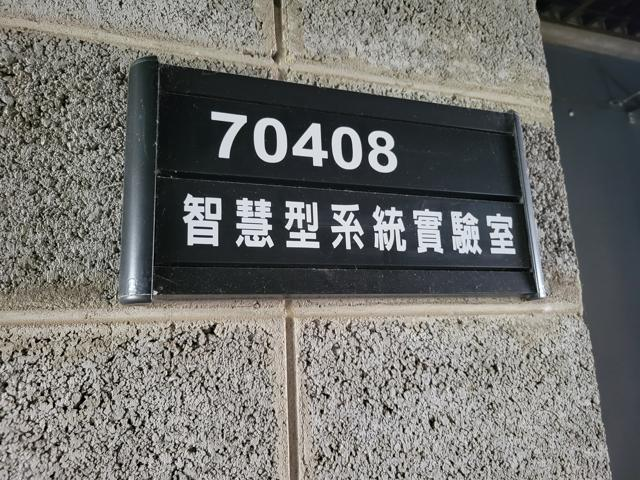doorplate: (110, 50, 555, 311)
